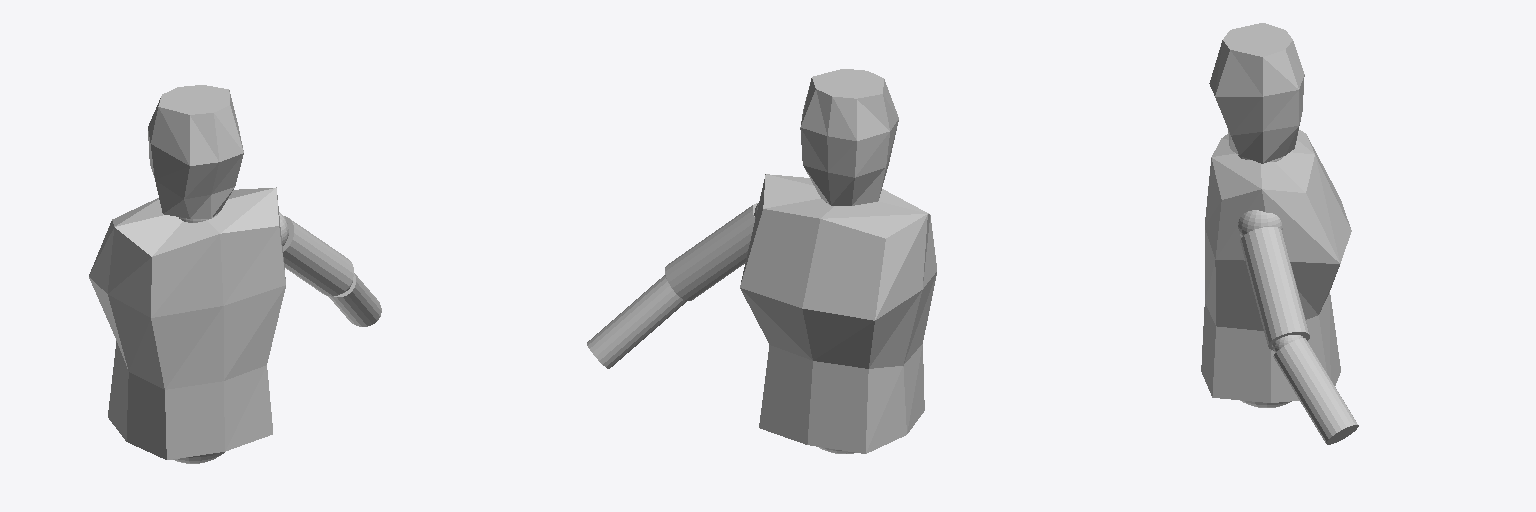
File: model_mock1.obj
3 views of the same model, side by side, from view 1: azimuth 30°, elevation 25°; view 2: azimuth 150°, elevation 25°; view 3: azimuth 270°, elevation 25° (orthographic).
Visible parts, largest first — view 1: pSphere1 pCube1, pSphere1 pCube1 pSphere2 pCube2, pSphere1 pCube1 pSphere3 pCylinder1, pSphere1 pCube1 pSphere3 pCylinder1 pSphere4 pCylinder2; view 2: pSphere1 pCube1, pSphere1 pCube1 pSphere2 pCube2, pSphere1 pCube1 pSphere3 pCylinder1, pSphere1 pCube1 pSphere3 pCylinder1 pSphere4 pCylinder2; view 3: pSphere1 pCube1, pSphere1 pCube1 pSphere2 pCube2, pSphere1 pCube1 pSphere3 pCylinder1, pSphere1 pCube1 pSphere3 pCylinder1 pSphere4 pCylinder2, pSphere1 pCube1 pSphere3.
Boxes of the visible parts, x1,y1,x2,y2 form: pSphere1 pCube1: [89, 187, 285, 459]; pSphere1 pCube1 pSphere2 pCube2: [148, 85, 243, 218]; pSphere1 pCube1 pSphere3 pCylinder1: [283, 216, 353, 296]; pSphere1 pCube1 pSphere3 pCylinder1 pSphere4 pCylinder2: [328, 273, 381, 326]; pSphere1 pCube1: [740, 174, 936, 453]; pSphere1 pCube1 pSphere2 pCube2: [800, 69, 898, 205]; pSphere1 pCube1 pSphere3 pCylinder1: [665, 203, 757, 300]; pSphere1 pCube1 pSphere3 pCylinder1 pSphere4 pCylinder2: [587, 275, 686, 368]; pSphere1 pCube1: [1201, 130, 1351, 402]; pSphere1 pCube1 pSphere2 pCube2: [1209, 23, 1304, 163]; pSphere1 pCube1 pSphere3 pCylinder1: [1240, 227, 1309, 350]; pSphere1 pCube1 pSphere3 pCylinder1 pSphere4 pCylinder2: [1273, 338, 1358, 444]; pSphere1 pCube1 pSphere3: [1238, 210, 1282, 236].
Size of the model in its own units: 4.11 by 4.71 by 1.85.